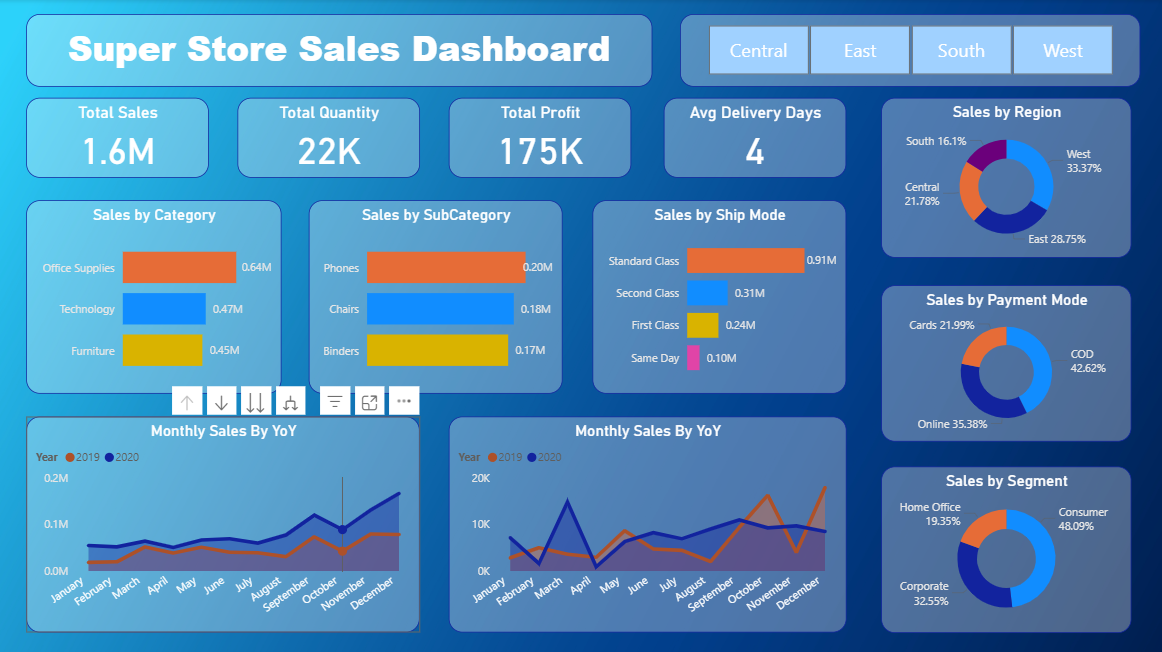

The page's visual inventory and layout, read from the dashboard file:
{"tool":"powerbi","page":{"name":"Page 1","canvas":[1280,720],"ordinal":0},"visuals":[{"type":"clusteredBarChart","title":"Sales by Category","fields":{"Category":["SuperStore_Sales_Dataset.Category"],"Y":["Sum(SuperStore_Sales_Dataset.Sales)"]},"box":[28.9,221.4,280.5,213.2],"z":0},{"type":"clusteredBarChart","title":"Sales by SubCategory","fields":{"Category":["SuperStore_Sales_Dataset.Sub-Category"],"Y":["Sum(SuperStore_Sales_Dataset.Sales)"]},"box":[339.7,221.4,279.2,213.2],"z":1000},{"type":"clusteredBarChart","title":"Sales by Ship Mode","fields":{"Category":["SuperStore_Sales_Dataset.Ship Mode"],"Y":["Sum(SuperStore_Sales_Dataset.Sales)"]},"box":[651.8,221.4,279.2,213.2],"z":2000},{"type":"areaChart","title":"Monthly Sales By YoY","fields":{"Y":["Sum(SuperStore_Sales_Dataset.Sales)"],"Category":["SuperStore_Sales_Dataset.Order Date.Variation.Date Hierarchy.Month","SuperStore_Sales_Dataset.Order Date.Variation.Date Hierarchy.Day"],"Series":["SuperStore_Sales_Dataset.Order Date.Variation.Date Hierarchy.Year"]},"box":[28.9,459.3,433.2,237.9],"z":3000},{"type":"areaChart","title":"Monthly Profit By YoY","fields":{"Category":["SuperStore_Sales_Dataset.Order Date.Variation.Date Hierarchy.Month","SuperStore_Sales_Dataset.Order Date.Variation.Date Hierarchy.Day"],"Series":["SuperStore_Sales_Dataset.Order Date.Variation.Date Hierarchy.Year"],"Y":["Sum(SuperStore_Sales_Dataset.Profit)"]},"box":[493.7,459.3,437.3,237.9],"z":4000},{"type":"donutChart","title":"Sales by Segment","fields":{"Category":["SuperStore_Sales_Dataset.Segment"],"Y":["Sum(SuperStore_Sales_Dataset.Sales)"]},"box":[969.5,514.3,275,182.9],"z":5000},{"type":"donutChart","title":"Sales by Payment Mode","fields":{"Category":["SuperStore_Sales_Dataset.Payment Mode"],"Y":["Sum(SuperStore_Sales_Dataset.Sales)"]},"box":[969.5,314.9,275,171.9],"z":6000},{"type":"slicer","fields":{"Values":["SuperStore_Sales_Dataset.Region"]},"box":[748.1,16.5,506.1,79.8],"z":7000},{"type":"textbox","box":[28.9,16.5,689,79.8],"z":8000},{"type":"card","title":"Total Sales","fields":{"Values":["Sum(SuperStore_Sales_Dataset.Sales)"]},"box":[28.9,108.6,200.8,88],"z":9000},{"type":"card","title":"Total Quantity","fields":{"Values":["Sum(SuperStore_Sales_Dataset.Quantity)"]},"box":[261.3,108.6,200.8,88],"z":10000},{"type":"card","title":"Total Profit","fields":{"Values":["Sum(SuperStore_Sales_Dataset.Profit)"]},"box":[493.7,108.6,200.8,88],"z":11000},{"type":"card","title":"Avg Delivery Days","fields":{"Values":["Avg(SuperStore_Sales_Dataset.AvgDelivery)"]},"box":[730.2,108.6,200.8,88],"z":12000},{"type":"donutChart","title":"Sales by Region","fields":{"Category":["SuperStore_Sales_Dataset.Region"],"Y":["Sum(SuperStore_Sales_Dataset.Sales)"]},"box":[969.5,108.6,275,176],"z":13000}]}

Visuals, with their boxes on the page's 1280x720 design canvas (x1, y1, x2, y2). These are canvas units, not pixel positions in the 1162x652 screenshot, which may show the page scaled, cropped or inside an application window:
"Sales by Category" clusteredBarChart: BBox(29, 221, 309, 435)
"Sales by SubCategory" clusteredBarChart: BBox(340, 221, 619, 435)
"Sales by Ship Mode" clusteredBarChart: BBox(652, 221, 931, 435)
"Monthly Sales By YoY" areaChart: BBox(29, 459, 462, 697)
"Monthly Profit By YoY" areaChart: BBox(494, 459, 931, 697)
"Sales by Segment" donutChart: BBox(970, 514, 1244, 697)
"Sales by Payment Mode" donutChart: BBox(970, 315, 1244, 487)
slicer - SuperStore_Sales_Dataset.Region: BBox(748, 16, 1254, 96)
textbox: BBox(29, 16, 718, 96)
"Total Sales" card: BBox(29, 109, 230, 197)
"Total Quantity" card: BBox(261, 109, 462, 197)
"Total Profit" card: BBox(494, 109, 694, 197)
"Avg Delivery Days" card: BBox(730, 109, 931, 197)
"Sales by Region" donutChart: BBox(970, 109, 1244, 285)
